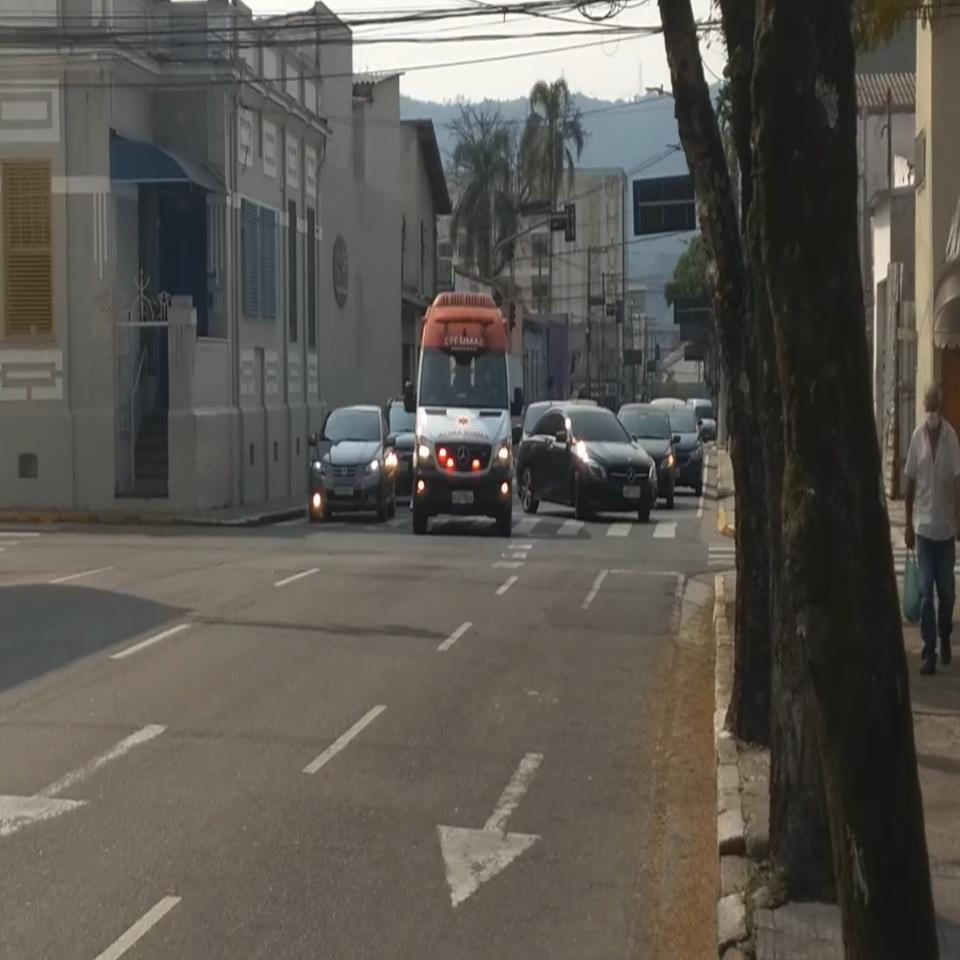bombeiro: (403, 286, 525, 536)
